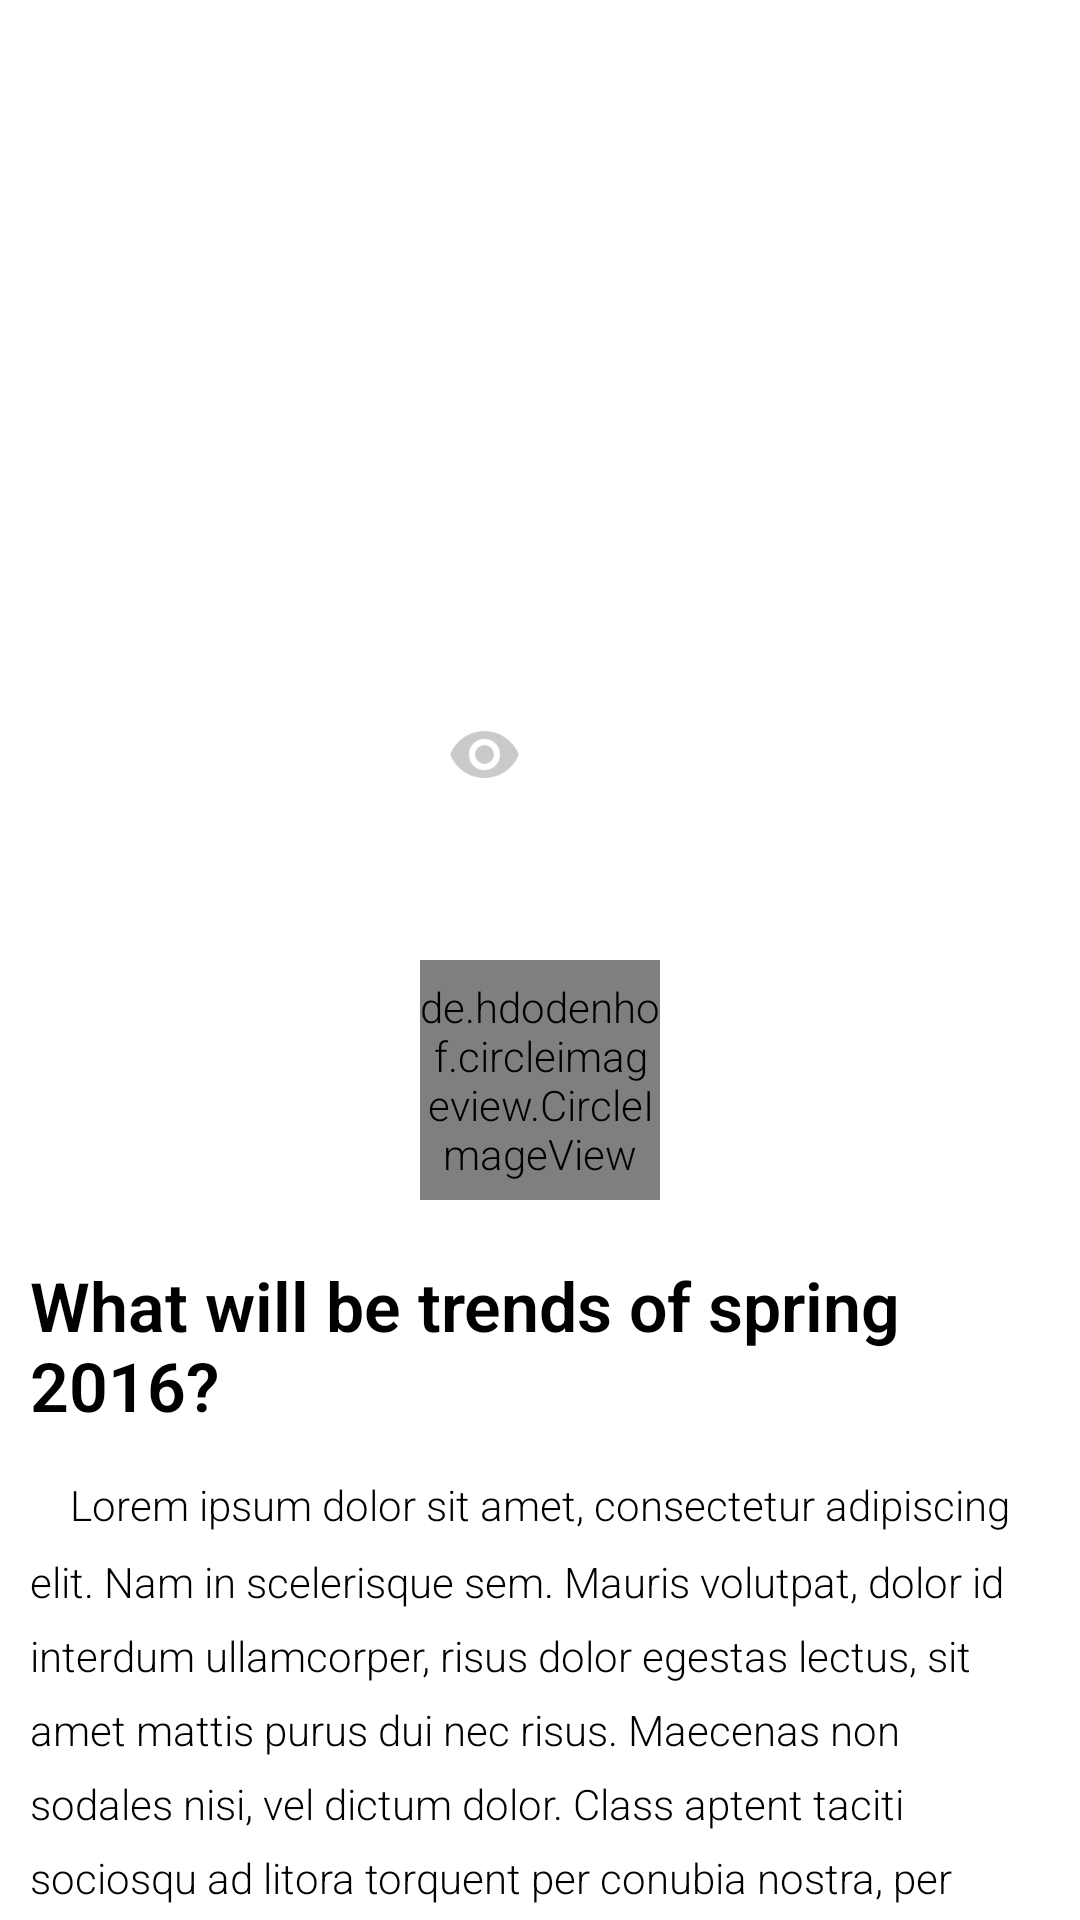

Icons on this 1080w x 1920h Android screen, each with the point to tap as [x,y]:
view: [484,754]
